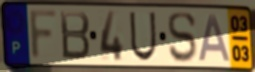4: (98, 9, 127, 63)
A: (197, 13, 233, 63)
B: (58, 9, 92, 62)
F: (28, 8, 60, 63)
S: (166, 10, 197, 65)
U: (128, 10, 158, 63)
